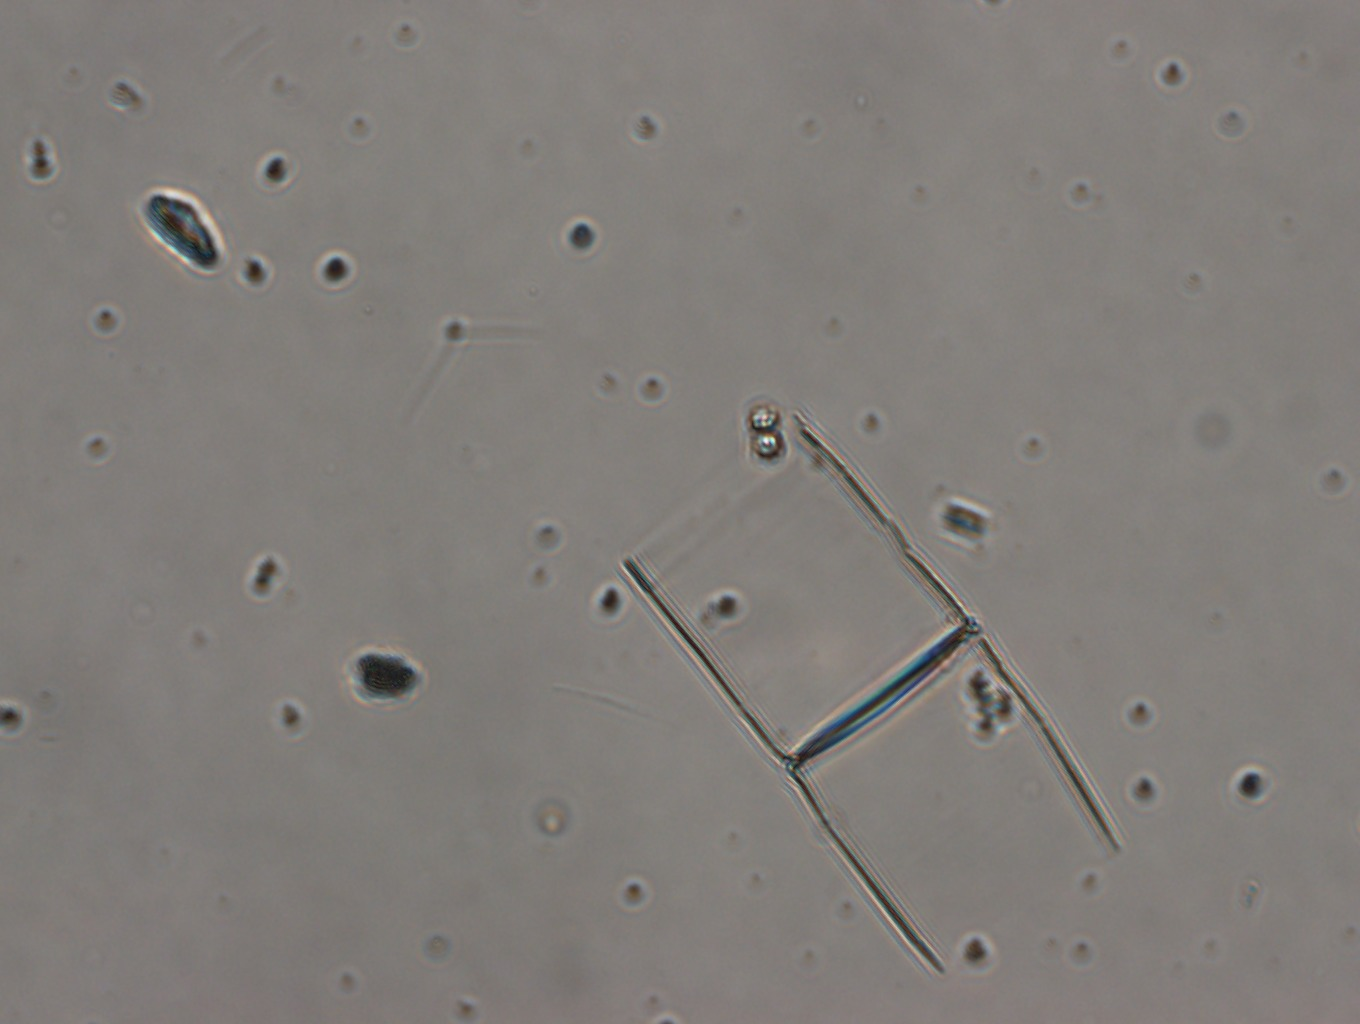guinardia flaccida: (618, 408, 1123, 975)
